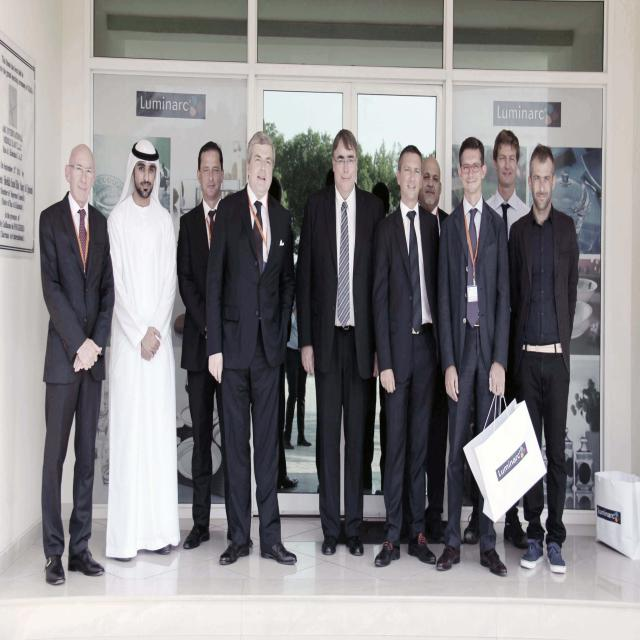body: (203, 128, 299, 568), (292, 128, 389, 559), (37, 142, 117, 588), (101, 137, 183, 565), (503, 141, 580, 578), (436, 136, 511, 577), (369, 144, 440, 568), (462, 129, 530, 550), (175, 139, 232, 552), (418, 155, 450, 542), (276, 284, 302, 490), (282, 294, 312, 450), (371, 182, 390, 213), (270, 175, 283, 209), (321, 168, 335, 188)
